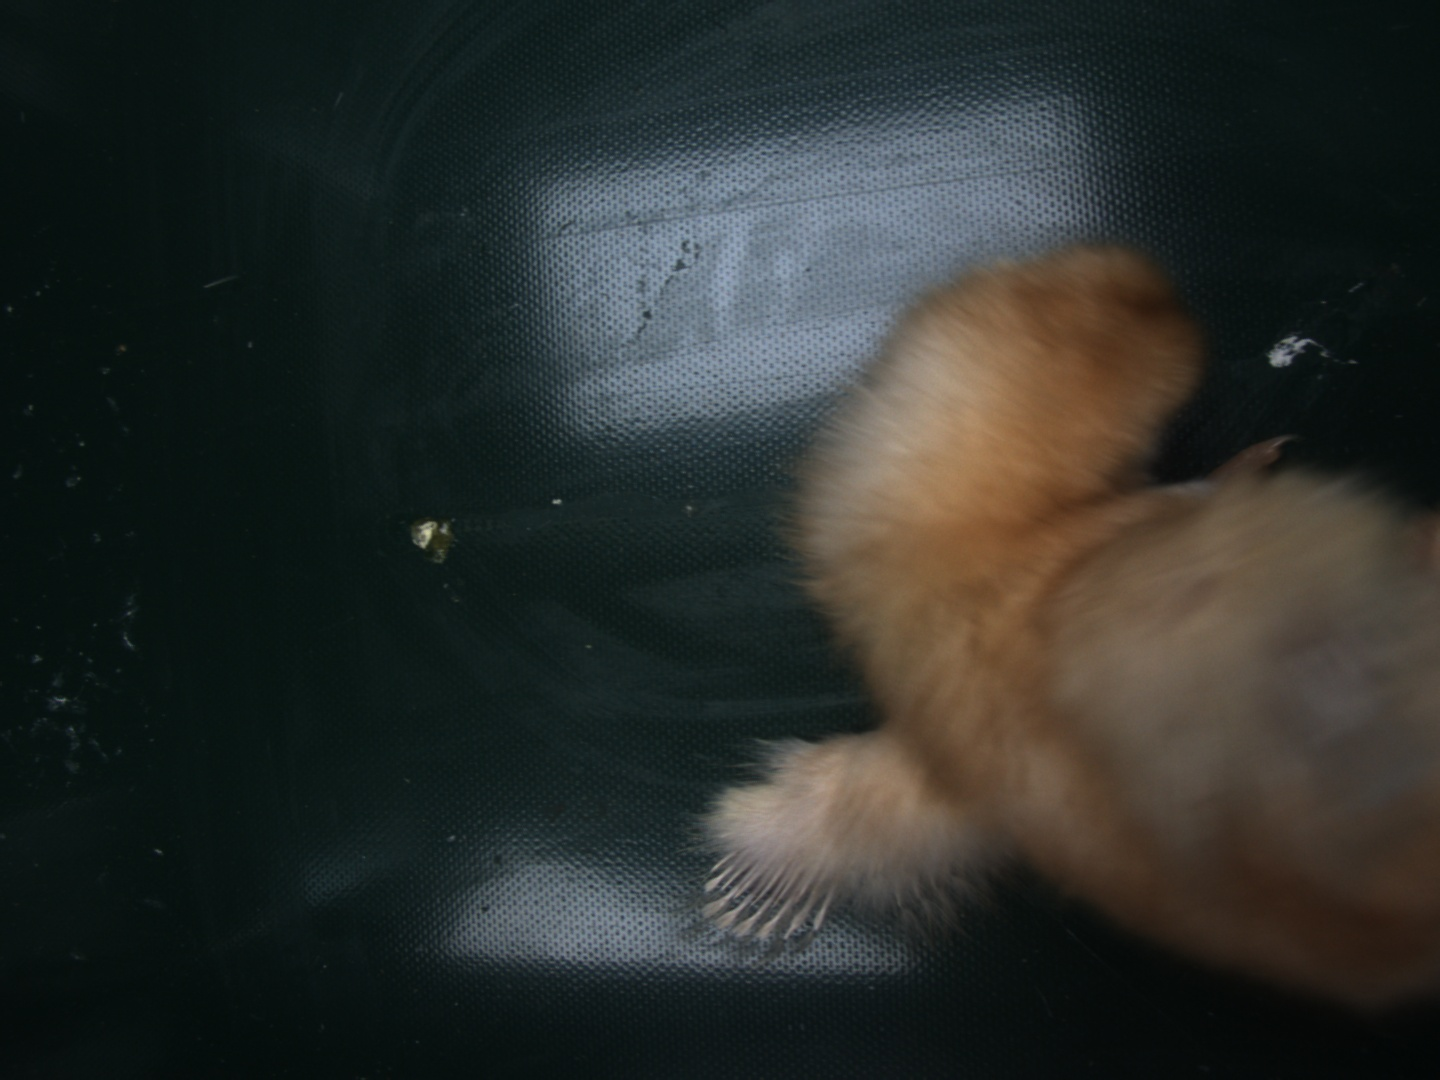female: (704, 850, 837, 939)
